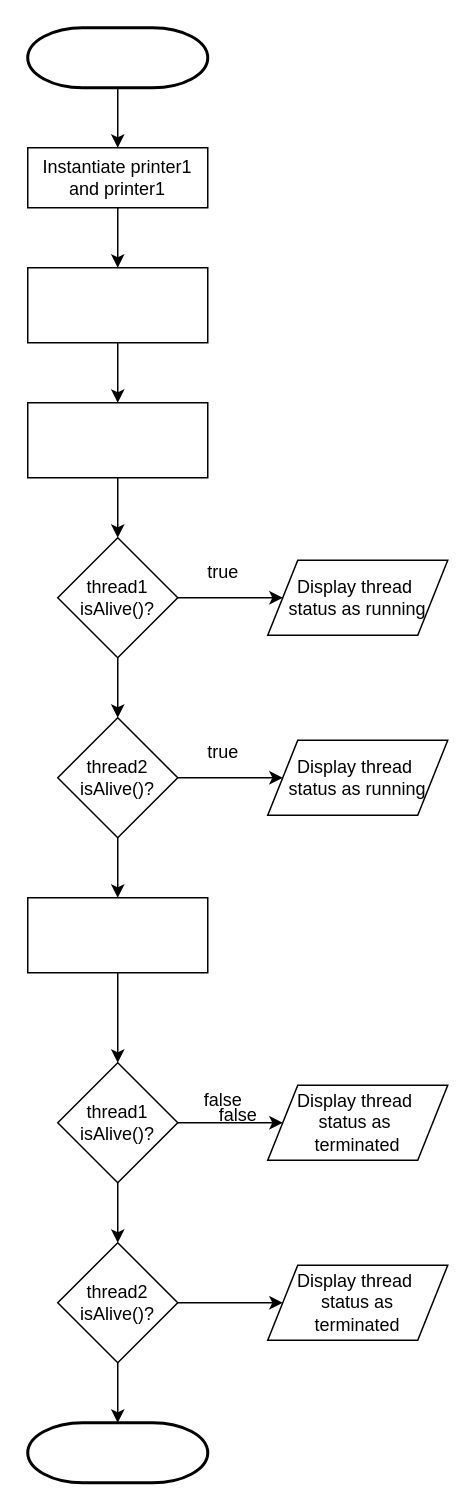
Some shapes in this 474 by 1509 pixel diagram are drawn without their labels. Each missing label, with the box of its shape:
End: (26, 1420, 208, 1484)
Instantiate thread1 and thread2 with printer1 and printer1: (26, 266, 208, 343)
Start: (26, 26, 208, 88)
start thread1 and thread2: (26, 401, 208, 478)
terminate thread1 and thread2: (26, 896, 208, 973)
